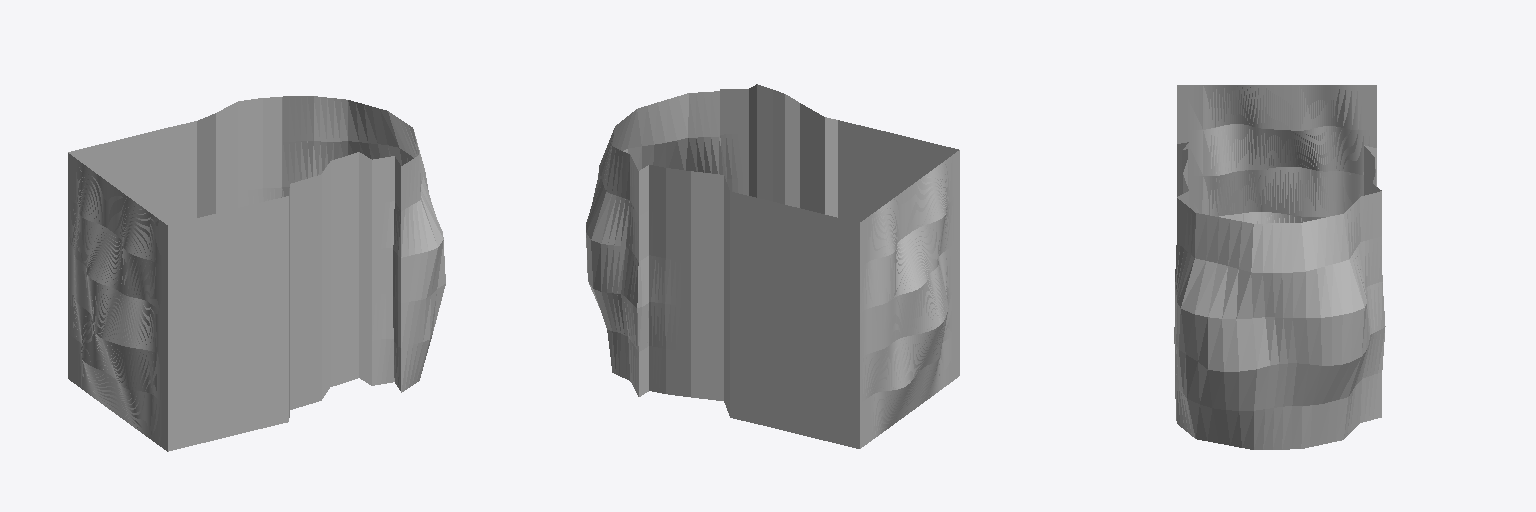
The model's file is mountainBottom1.obj.
3 renders of one model, left to right at view 1: azimuth 30°, elevation 25°; view 2: azimuth 150°, elevation 25°; view 3: azimuth 270°, elevation 25°, orthographic.
Parts seen in each view (by area): view 1: Landscape.004; view 2: Landscape.004; view 3: Landscape.004.
Part boxes in pixels (x1,y1,x2,y2): Landscape.004: (68, 96, 445, 451); Landscape.004: (586, 84, 959, 448); Landscape.004: (1174, 85, 1385, 449).
Size of the model in its own units: 15.28 by 11.07 by 8.53.